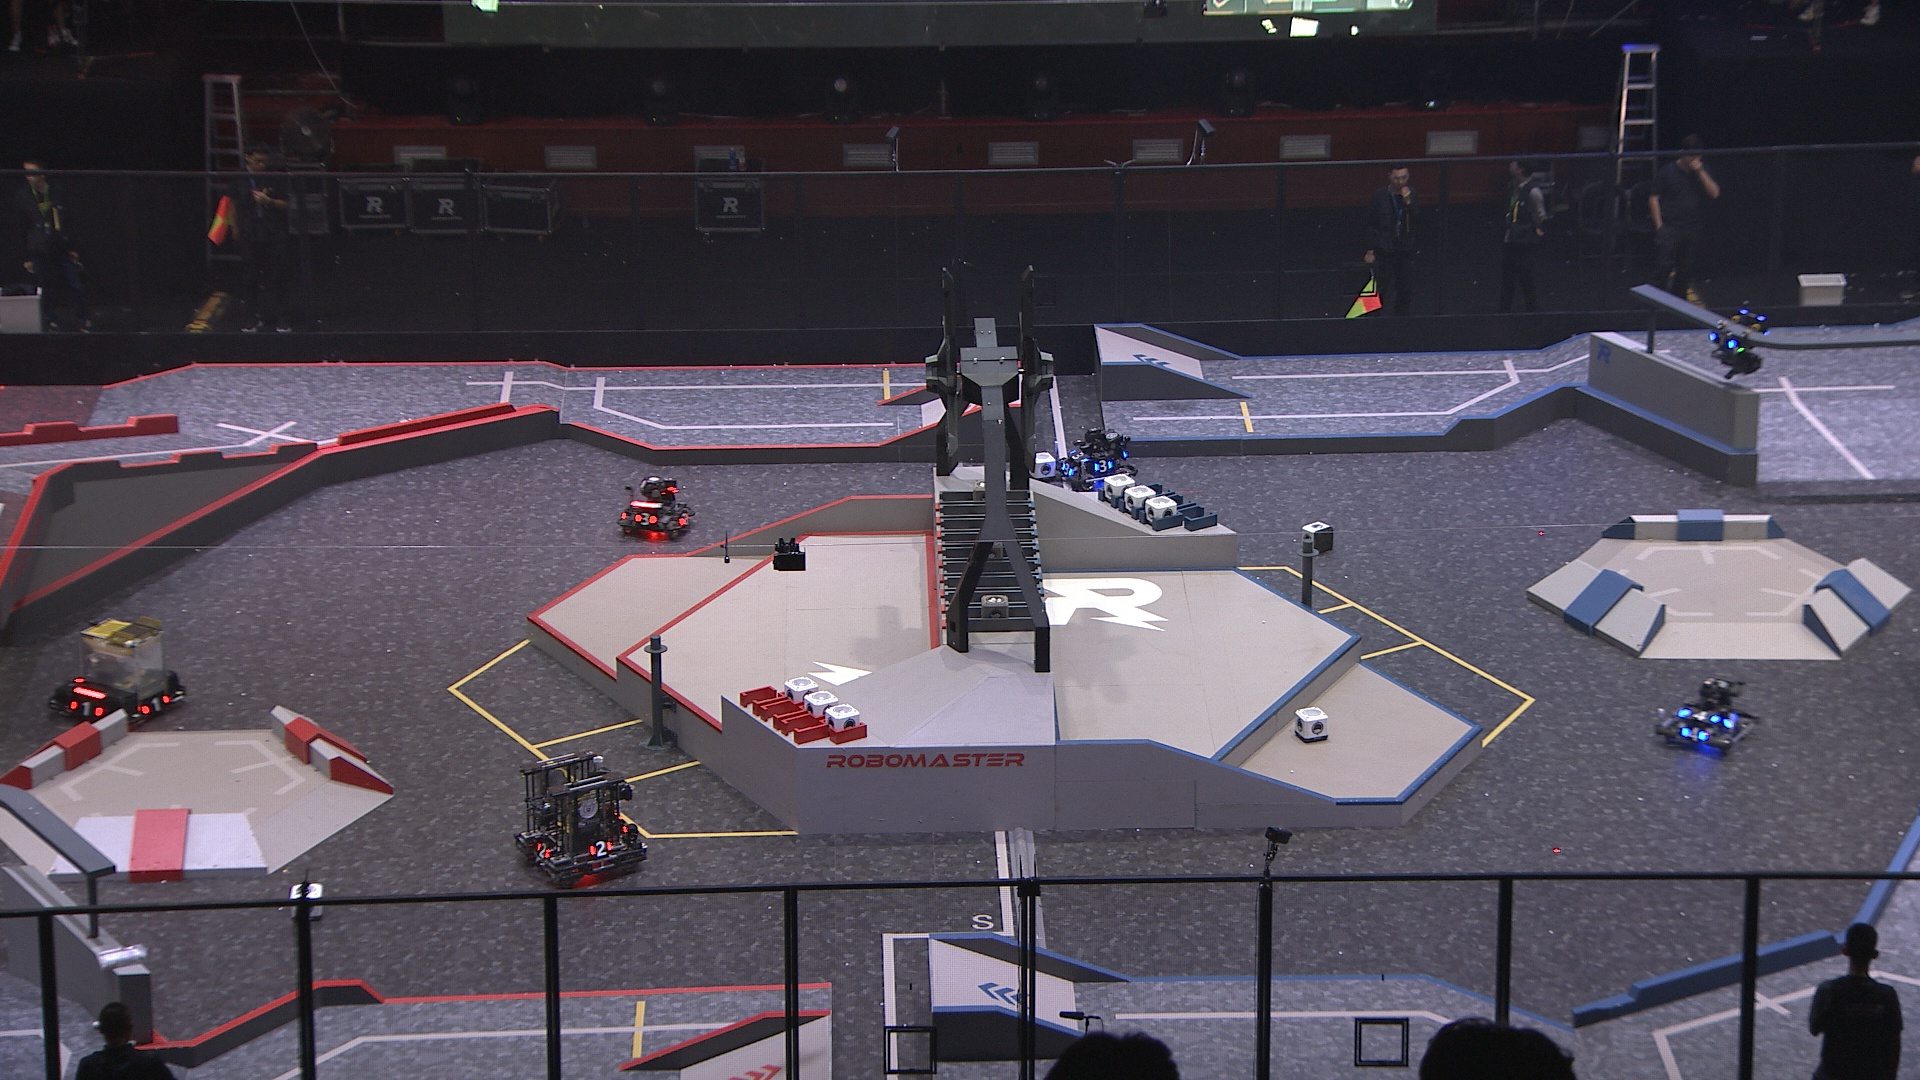armor: (138, 688, 171, 717), (65, 698, 109, 717), (1683, 704, 1722, 727), (1706, 330, 1737, 352), (585, 839, 613, 861), (1681, 723, 1709, 745), (533, 840, 556, 862), (632, 510, 662, 527), (1058, 454, 1076, 479), (1721, 712, 1741, 731), (1091, 458, 1114, 472), (1068, 446, 1088, 463), (676, 510, 694, 527)
car: (513, 746, 647, 885), (50, 613, 193, 731), (1655, 674, 1760, 752), (607, 472, 699, 538), (1054, 427, 1139, 495)
watcher: (1700, 295, 1774, 380)
